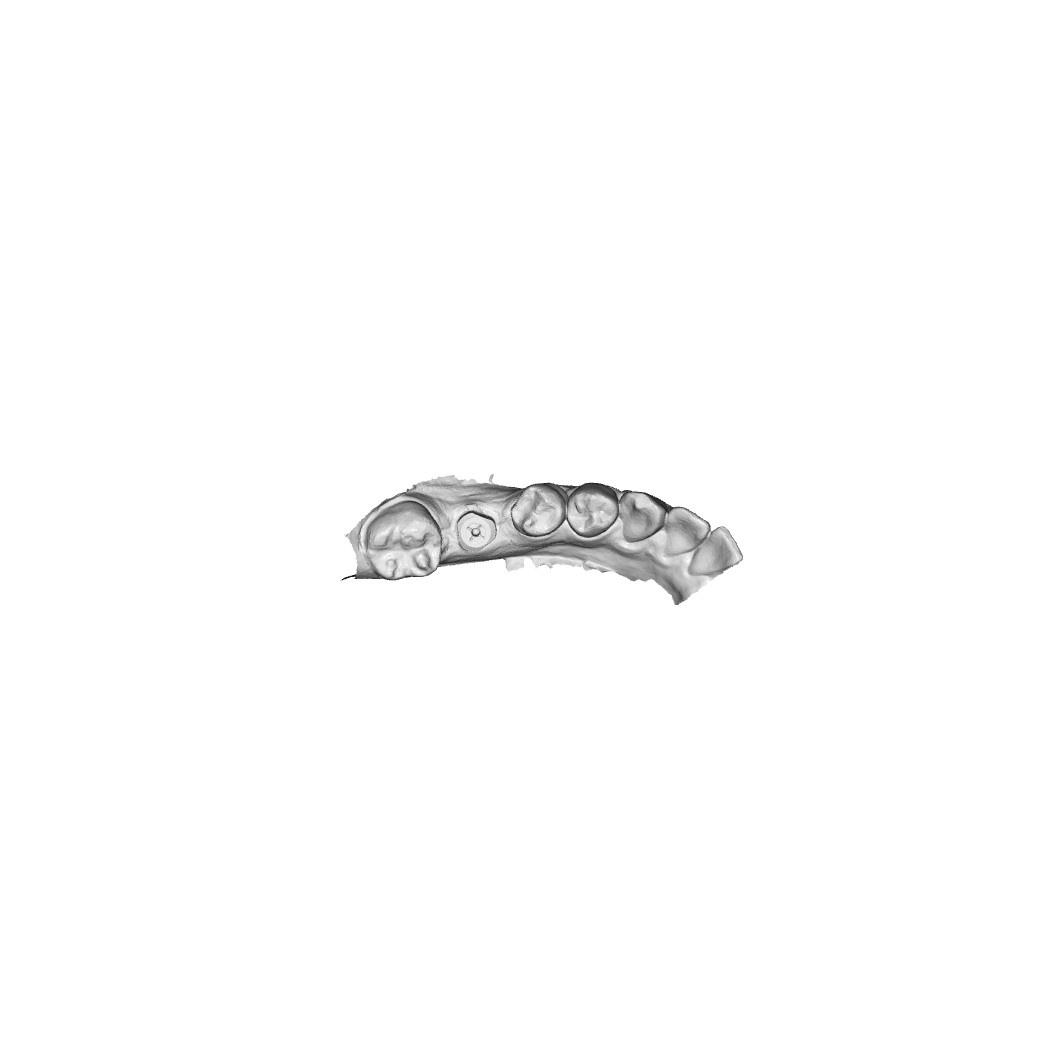canine: (616, 488, 666, 543)
implant_plus: (458, 507, 498, 549)
incisor: (686, 523, 747, 575), (656, 504, 709, 557)
molar: (364, 501, 442, 585)
premolar: (563, 480, 620, 538), (508, 484, 568, 538)
